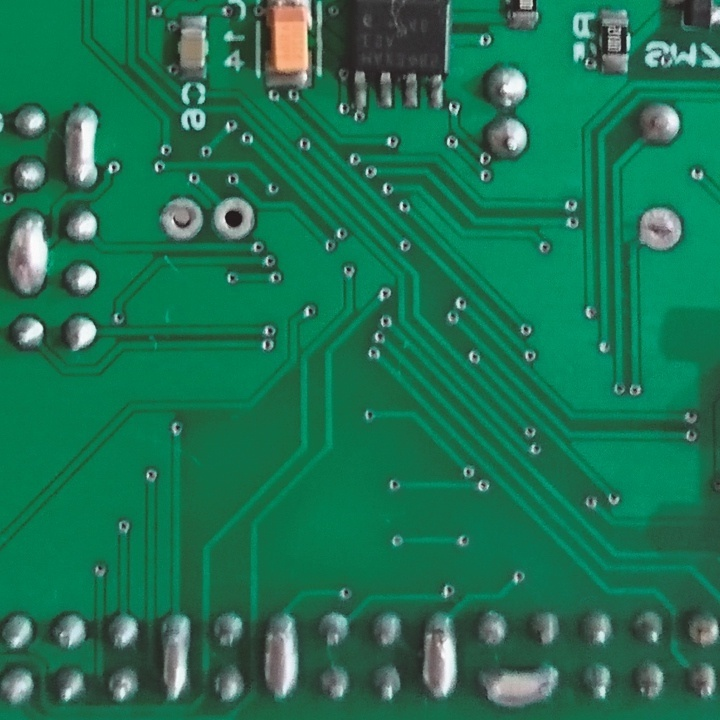F: (636, 204, 687, 257), (211, 198, 259, 243), (159, 195, 201, 242)
P: (417, 610, 464, 706), (260, 609, 304, 709), (6, 209, 53, 301), (156, 607, 195, 708), (474, 665, 569, 706), (61, 100, 101, 194)
